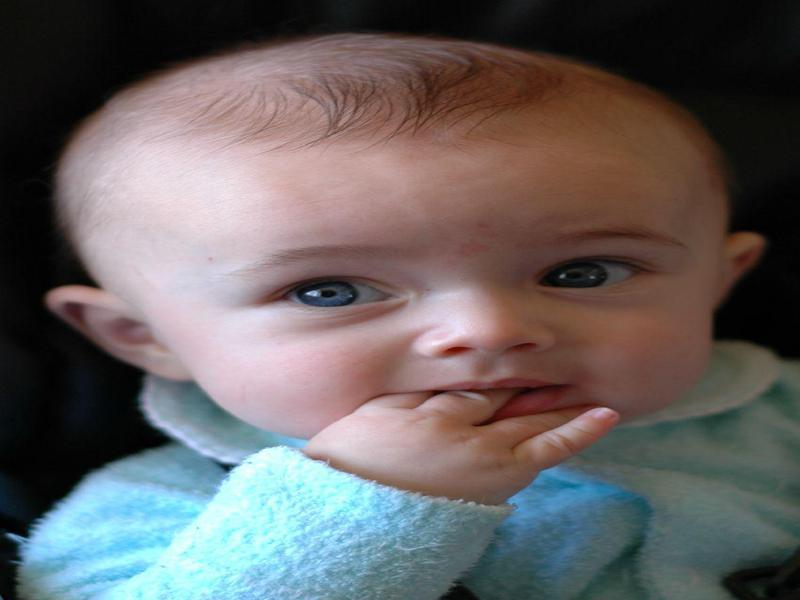person: (31, 30, 797, 600)
